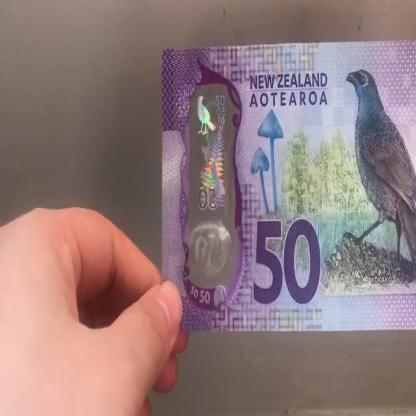50B: (191, 87, 233, 280)
